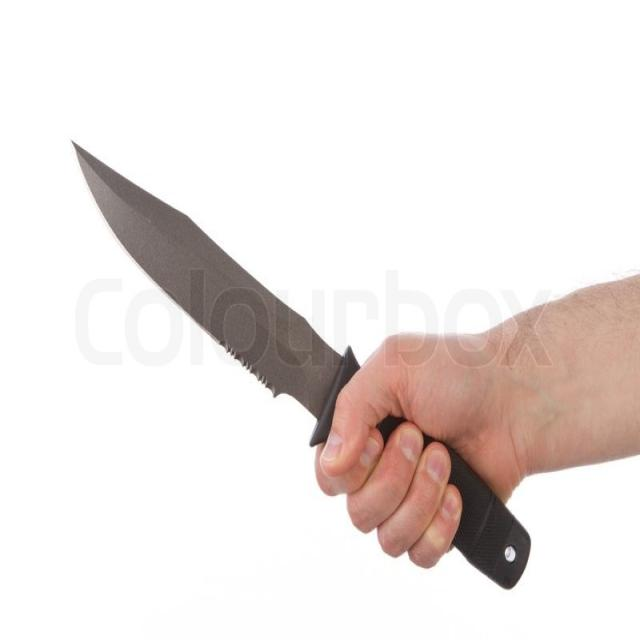knife: (67, 129, 534, 595)
